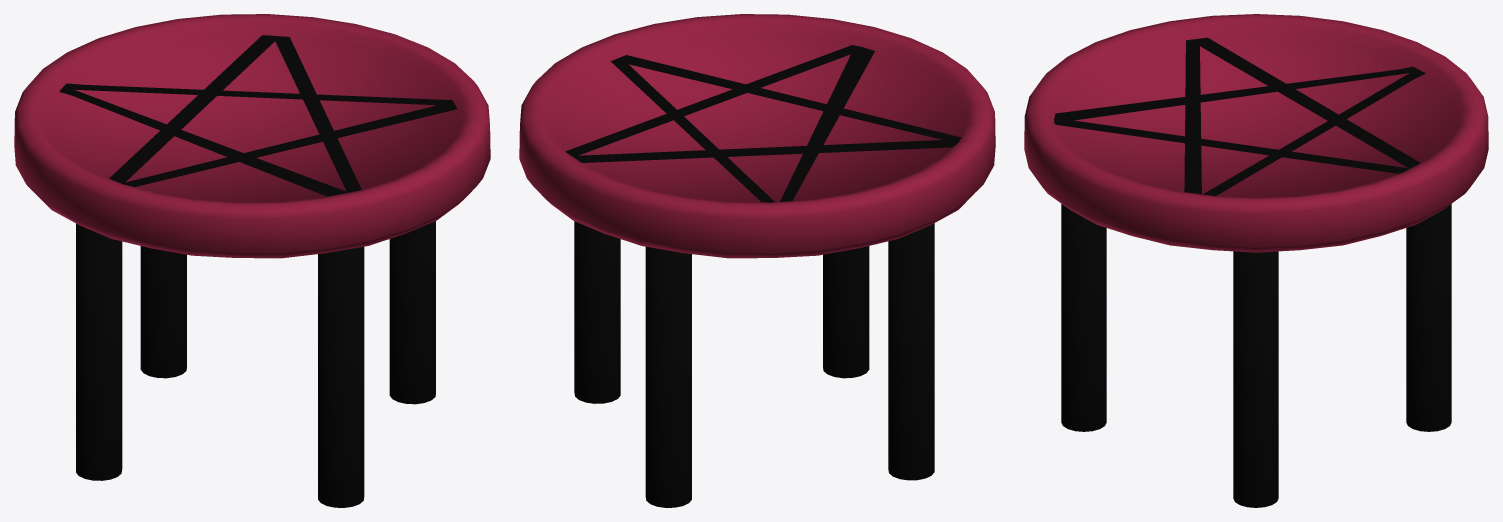
The model's file is Table_Goth.glb.
The picture shows the model from 3 angles, left to right: view 1: azimuth 30°, elevation 25°; view 2: azimuth 150°, elevation 25°; view 3: azimuth 270°, elevation 25°; orthographic projection. The views are drawn at different scales.
Visible parts, largest first — view 1: Table_Goth; view 2: Table_Goth; view 3: Table_Goth.
Boxes of the visible parts, x1,y1,x2,y2 form: Table_Goth: [14, 14, 490, 507]; Table_Goth: [519, 14, 995, 507]; Table_Goth: [1024, 14, 1488, 507].
Bounding box in the file's own units: 0.4553 × 0.3396 × 0.4553.
1 material, 1 textured.
